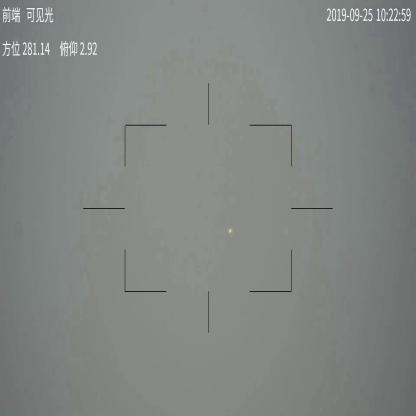uav: (227, 226, 233, 235)
